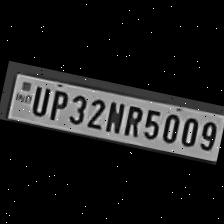0: (158, 108, 183, 143), (176, 111, 200, 146)
2: (83, 92, 109, 129)
3: (64, 88, 89, 124)
5: (138, 103, 164, 140)
9: (195, 116, 220, 151)
N: (100, 96, 127, 133)
P: (44, 84, 70, 121)
R: (118, 99, 144, 137)
U: (26, 80, 52, 116)
